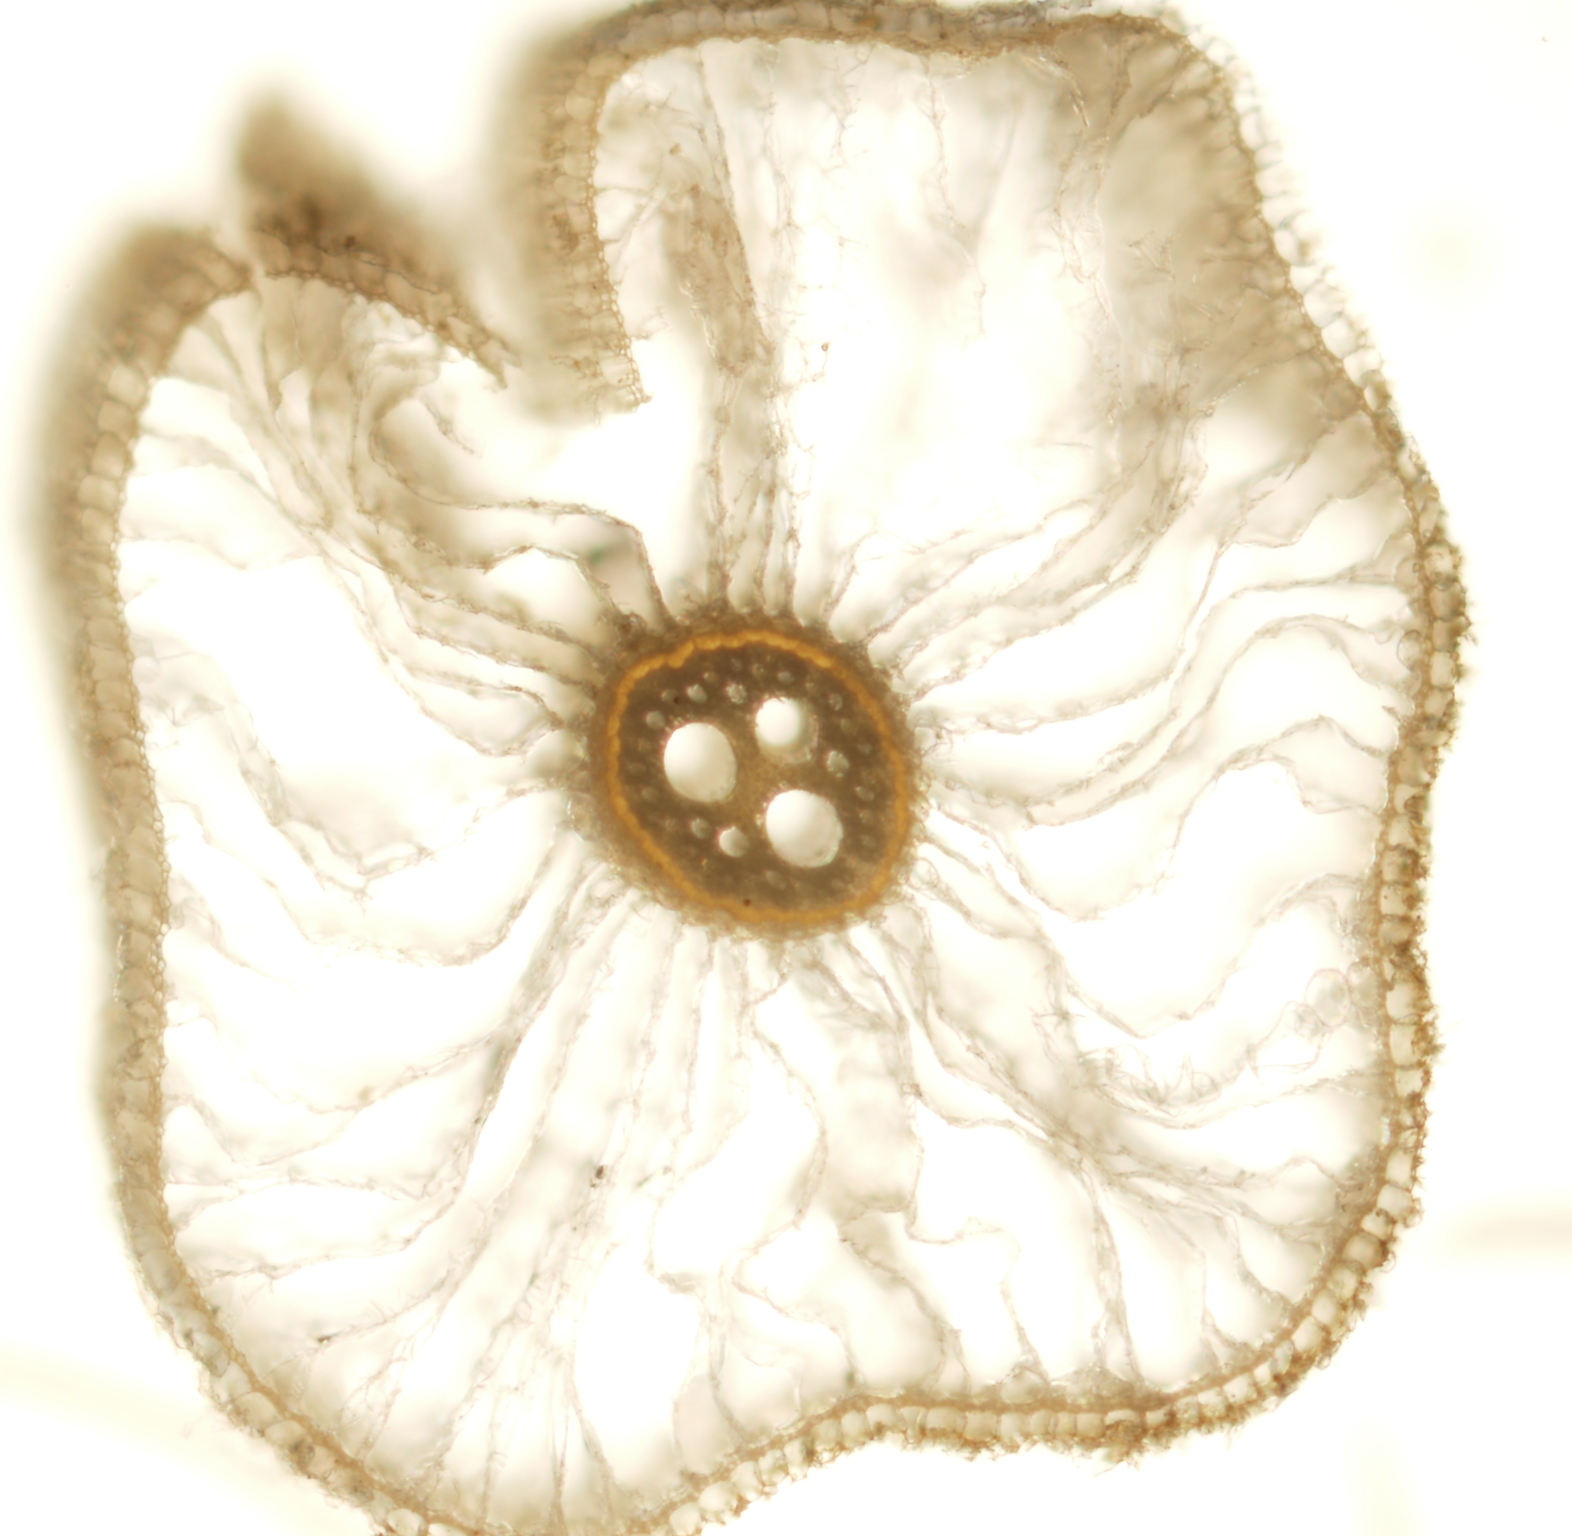lm: (765, 789, 844, 868), (664, 722, 737, 803), (754, 696, 818, 767)
